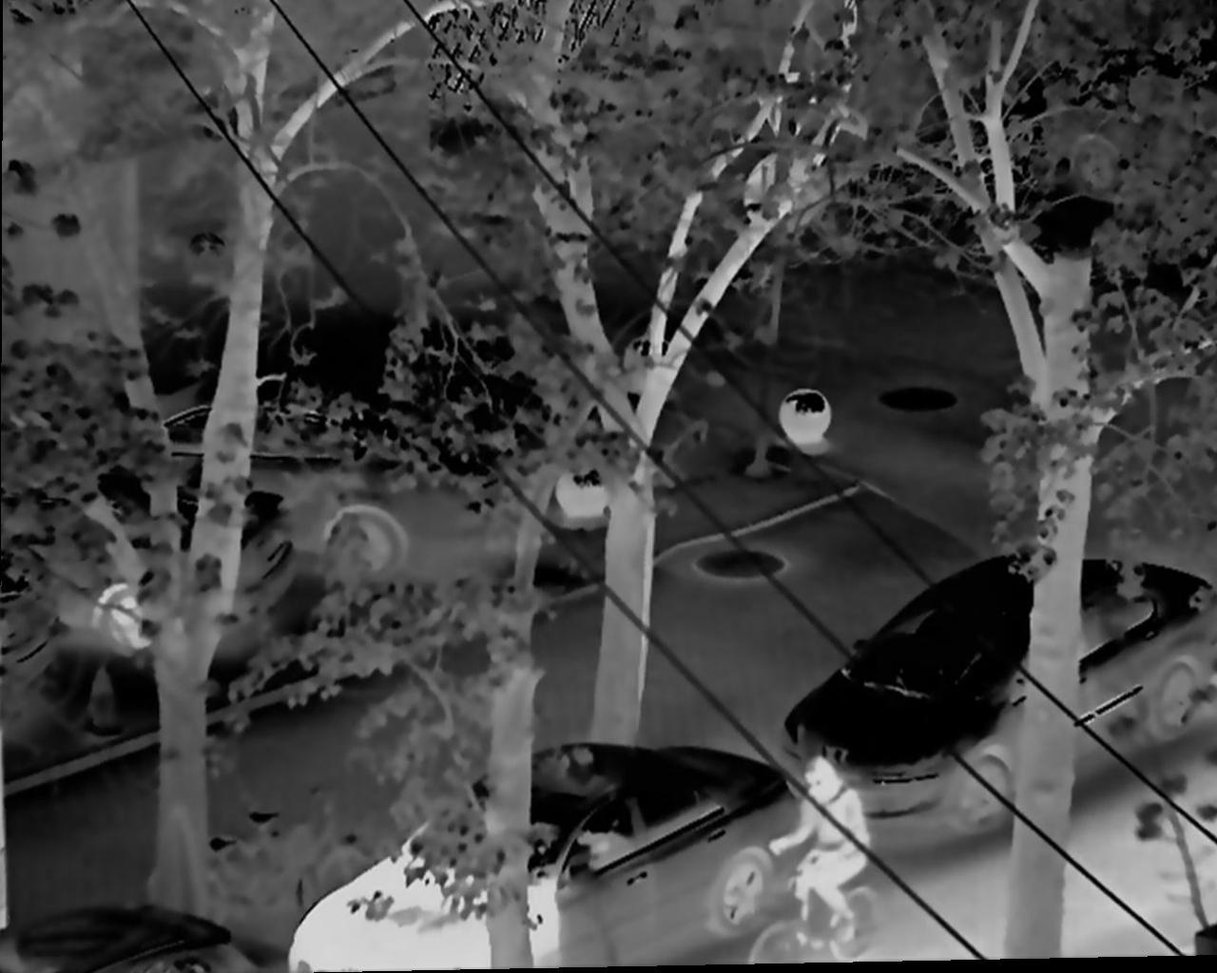person: (774, 743, 875, 948)
